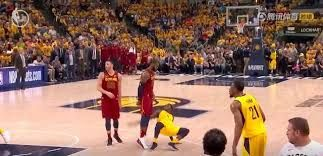10+: (1, 1, 322, 154)
down: (145, 94, 188, 155)
